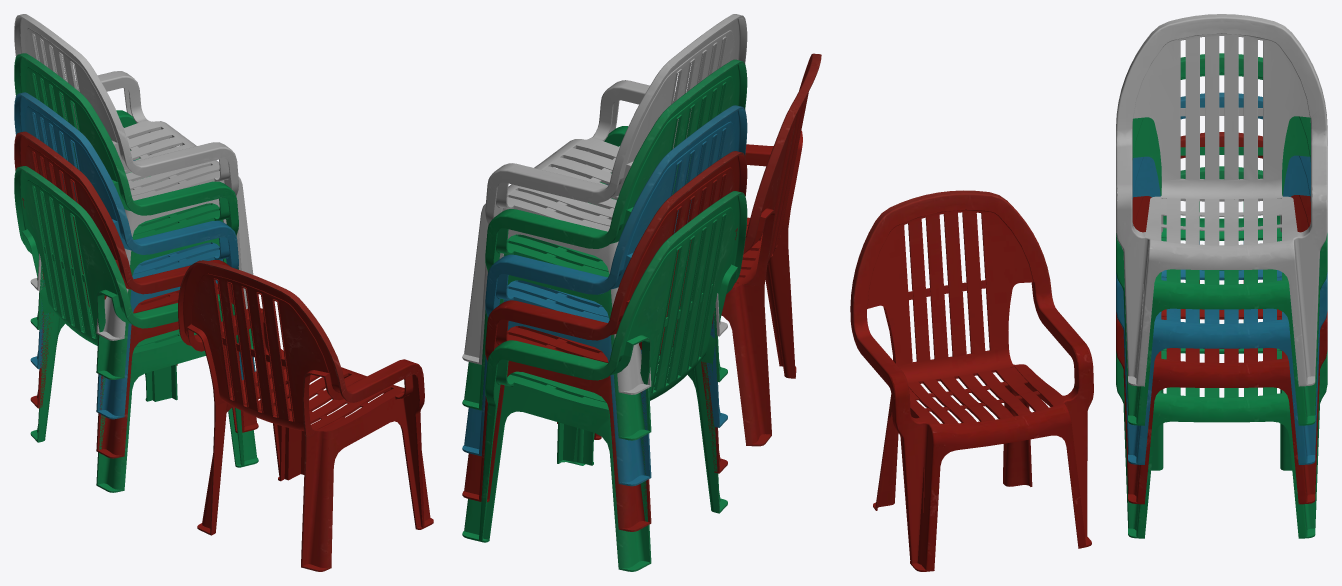
Rendered from obj_plastic_chairs.glb.
3 views of the same model, side by side, from view 1: azimuth 30°, elevation 25°; view 2: azimuth 150°, elevation 25°; view 3: azimuth 270°, elevation 25° (orthographic). The views are drawn at different scales.
Parts seen in each view (by area): view 1: Object_6, Object_2, Object_7, Object_3, Object_4, Object_5; view 2: Object_2, Object_7, Object_4, Object_5, Object_3, Object_6; view 3: Object_6, Object_7, Object_3, Object_4, Object_5, Object_2.
Boxes of the visible parts, box(x1,y1,x2,y2) form: Object_6: box(178, 260, 433, 571); Object_2: box(14, 166, 258, 492); Object_7: box(14, 14, 253, 340); Object_3: box(14, 53, 253, 379); Object_4: box(14, 92, 255, 419); Object_5: box(14, 131, 258, 458); Object_2: box(462, 191, 747, 571); Object_7: box(462, 14, 747, 394); Object_4: box(462, 105, 747, 486); Object_5: box(462, 151, 747, 531); Object_3: box(462, 59, 747, 440); Object_6: box(594, 53, 821, 446); Object_6: box(850, 190, 1093, 571); Object_7: box(1116, 14, 1327, 386); Object_3: box(1116, 53, 1327, 425); Object_4: box(1116, 92, 1327, 464); Object_5: box(1116, 132, 1327, 504); Object_2: box(1116, 166, 1327, 538).
Bounding box in the file's own units: 33.8 × 58.89 × 57.86.
Materials: 4 (4 with a texture image).
